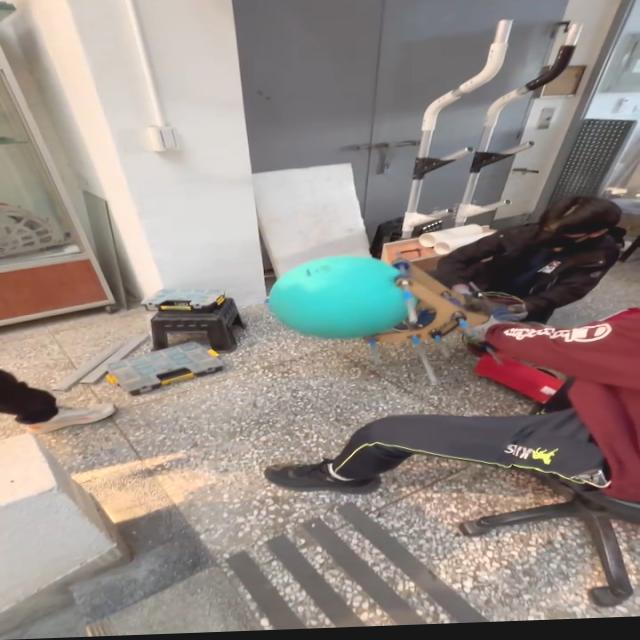ALGAE: (264, 252, 414, 343)
